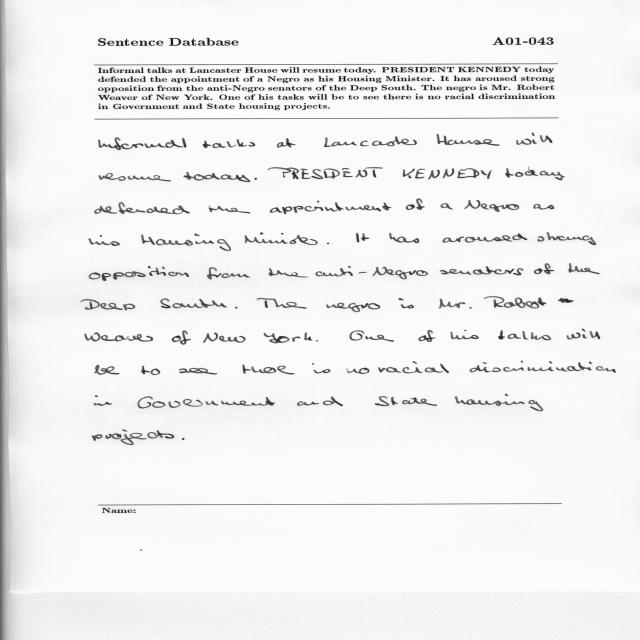word: (138, 397, 275, 409), (141, 233, 231, 251), (470, 361, 616, 372), (270, 201, 391, 214), (89, 266, 189, 281), (455, 394, 543, 411), (316, 266, 428, 279), (268, 167, 383, 179), (93, 429, 175, 445), (99, 137, 187, 150), (95, 202, 190, 214), (324, 136, 417, 147), (403, 168, 492, 179), (244, 233, 318, 246), (378, 362, 449, 374), (505, 167, 565, 180), (436, 134, 500, 146), (443, 234, 528, 243), (538, 232, 596, 245), (440, 267, 523, 276), (484, 297, 546, 309), (85, 332, 153, 342), (184, 172, 251, 182), (161, 299, 228, 309), (464, 200, 519, 212), (99, 173, 171, 182), (375, 396, 437, 406), (81, 299, 135, 310), (498, 330, 551, 341), (207, 267, 250, 280), (257, 298, 307, 309), (264, 333, 313, 344), (243, 365, 295, 375), (326, 303, 380, 312), (350, 331, 394, 342), (203, 139, 255, 148), (297, 397, 343, 407), (516, 133, 553, 145), (203, 333, 245, 343), (268, 268, 308, 278), (567, 329, 600, 340), (568, 264, 600, 275), (89, 235, 120, 246), (209, 206, 251, 214), (439, 299, 472, 309), (389, 233, 419, 243), (450, 330, 479, 340), (172, 330, 191, 345), (95, 365, 120, 375), (179, 368, 217, 374), (534, 264, 554, 275), (406, 199, 425, 210), (419, 330, 436, 342), (94, 395, 112, 406), (277, 138, 296, 148), (141, 365, 160, 375), (312, 363, 330, 373), (399, 298, 414, 308), (347, 368, 370, 374), (534, 204, 555, 210), (356, 233, 369, 242), (441, 203, 454, 210), (558, 298, 574, 303), (254, 178, 257, 180), (182, 438, 185, 440), (235, 307, 237, 309), (327, 243, 329, 244), (316, 341, 318, 342)
